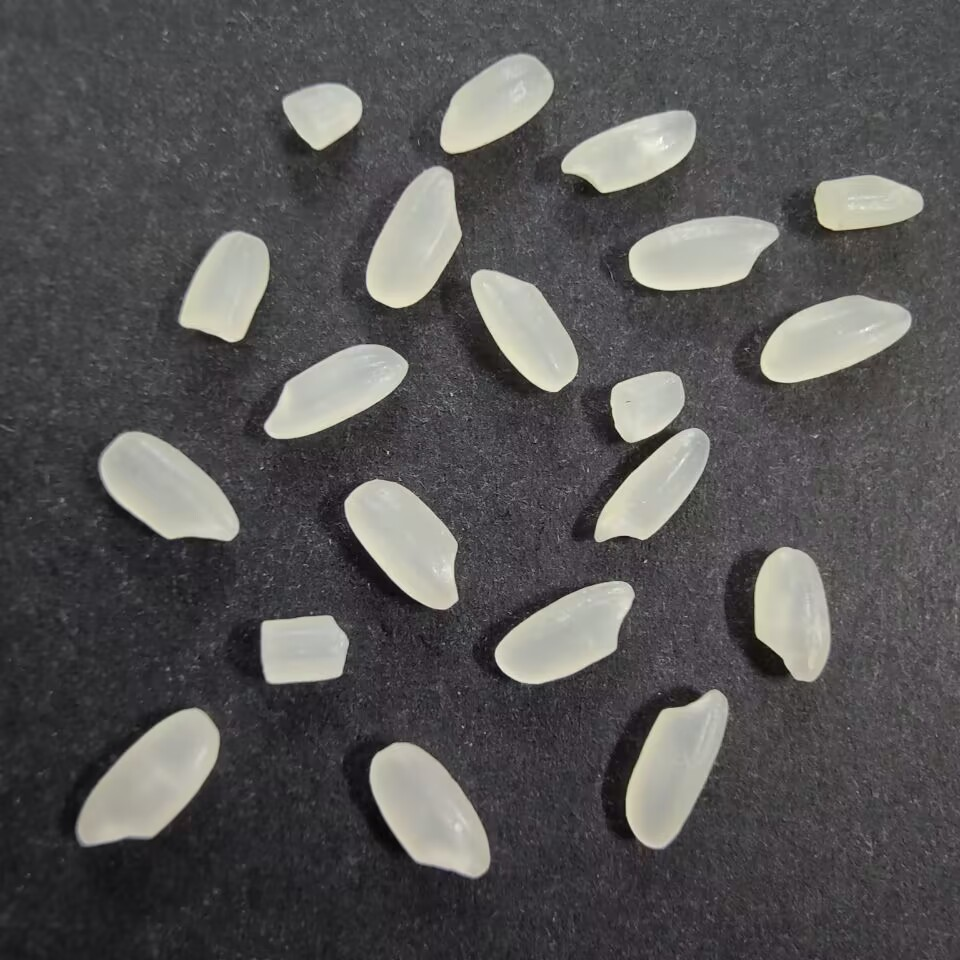broken: (175, 227, 273, 345), (256, 612, 351, 689), (810, 173, 926, 233), (277, 81, 368, 155), (607, 370, 686, 445)
rice: (72, 703, 223, 853), (620, 686, 733, 852), (364, 737, 494, 881), (97, 429, 242, 550), (340, 475, 463, 614), (490, 576, 636, 687), (590, 423, 713, 548), (262, 341, 411, 444), (362, 164, 463, 310), (468, 267, 582, 394), (757, 293, 916, 384), (437, 50, 558, 157), (559, 103, 699, 193), (628, 215, 782, 294), (751, 544, 831, 687)
